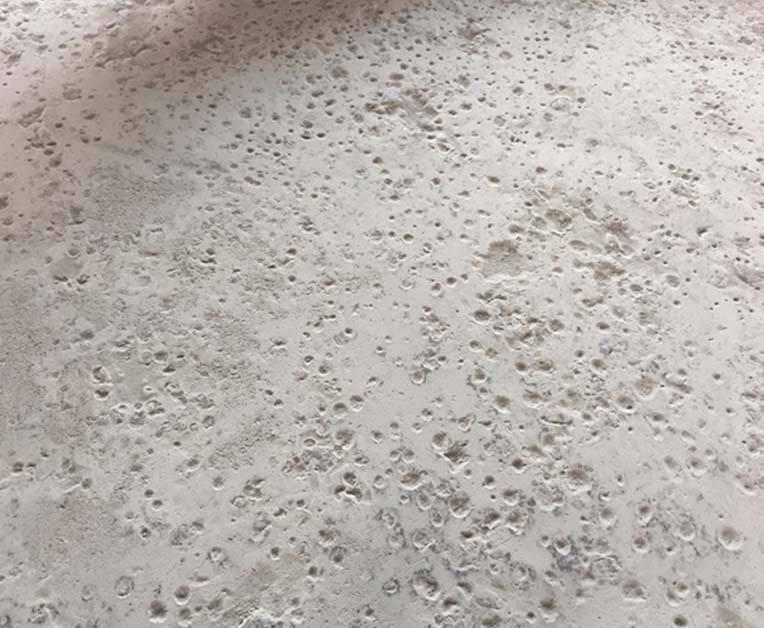Spalling: (1, 1, 764, 628)
